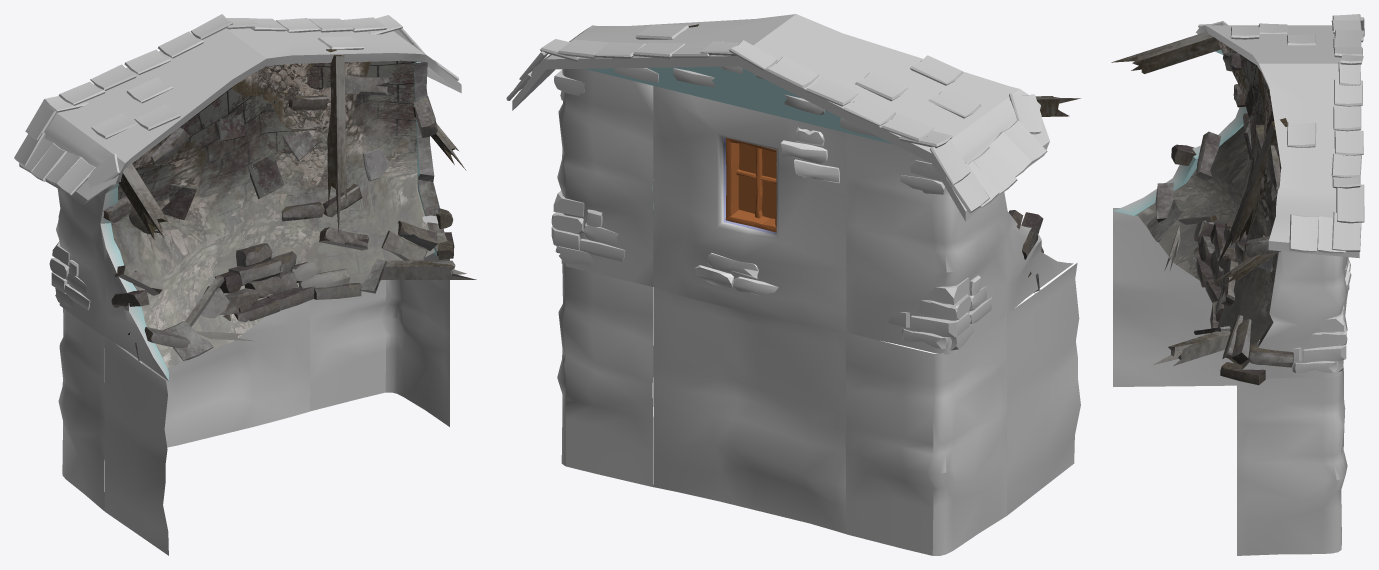
The model's file is Village1_house4_destroyed_side2.fbx.
3 views of the same model, side by side, from view 1: azimuth 30°, elevation 25°; view 2: azimuth 150°, elevation 25°; view 3: azimuth 270°, elevation 25° (orthographic). The views are drawn at different scales.
Parts seen in each view (by area): view 1: rebel_low.002, wall.163, broken_beam.002, underground.060, underground.052, underground.057, underground.056, bricks.125; view 2: wall.163, underground.052, underground.056, underground.060, underground.057, bricks.125, bricks.122, bricks.124, Windows_doors.421, broken_beam.002, brick_roof.101, Windows_doors.418 (+1 smaller); view 3: wall.163, underground.060, broken_beam.002, underground.057, rebel_low.002, bricks.122.
Boxes of the visible parts, <box> form: rebel_low.002: <box>111,60,434,368</box>; wall.163: <box>14,14,461,381</box>; broken_beam.002: <box>103,49,476,370</box>; underground.060: <box>310,253,449,426</box>; underground.052: <box>142,300,310,447</box>; underground.057: <box>104,336,168,555</box>; underground.056: <box>58,308,141,510</box>; bricks.125: <box>49,241,90,310</box>; wall.163: <box>506,14,1073,354</box>; underground.052: <box>653,287,845,533</box>; underground.056: <box>845,314,1006,555</box>; underground.060: <box>557,264,653,486</box>; underground.057: <box>1007,263,1080,515</box>; bricks.125: <box>888,160,992,350</box>; bricks.122: <box>551,70,625,264</box>; bricks.124: <box>694,127,839,295</box>; Windows_doors.421: <box>738,143,776,218</box>; broken_beam.002: <box>688,24,1080,293</box>; brick_roof.101: <box>614,66,742,87</box>; Windows_doors.418: <box>726,138,739,217</box>; wall.163: <box>1113,14,1364,378</box>; underground.060: <box>1237,369,1347,555</box>; broken_beam.002: <box>1111,32,1293,385</box>; underground.057: <box>1113,208,1236,386</box>; rebel_low.002: <box>1137,39,1281,364</box>; bricks.122: <box>1256,305,1347,372</box>.
Size of the model in its own units: 495 by 465 by 259.
